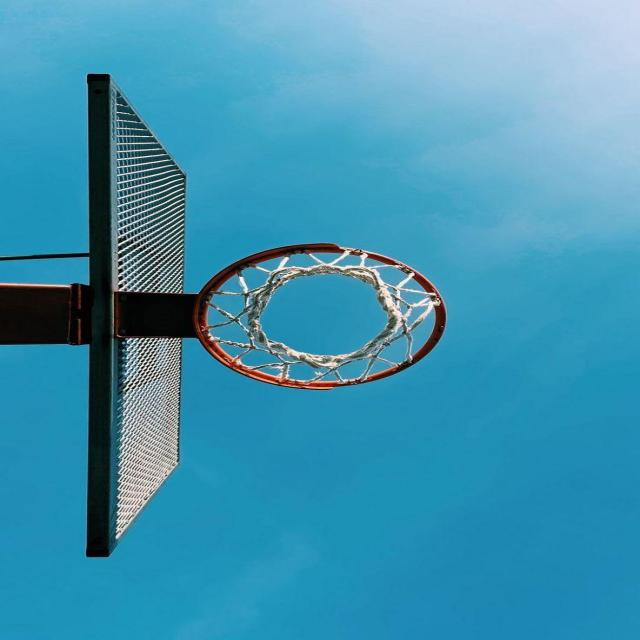hoop: (178, 245, 513, 396)
